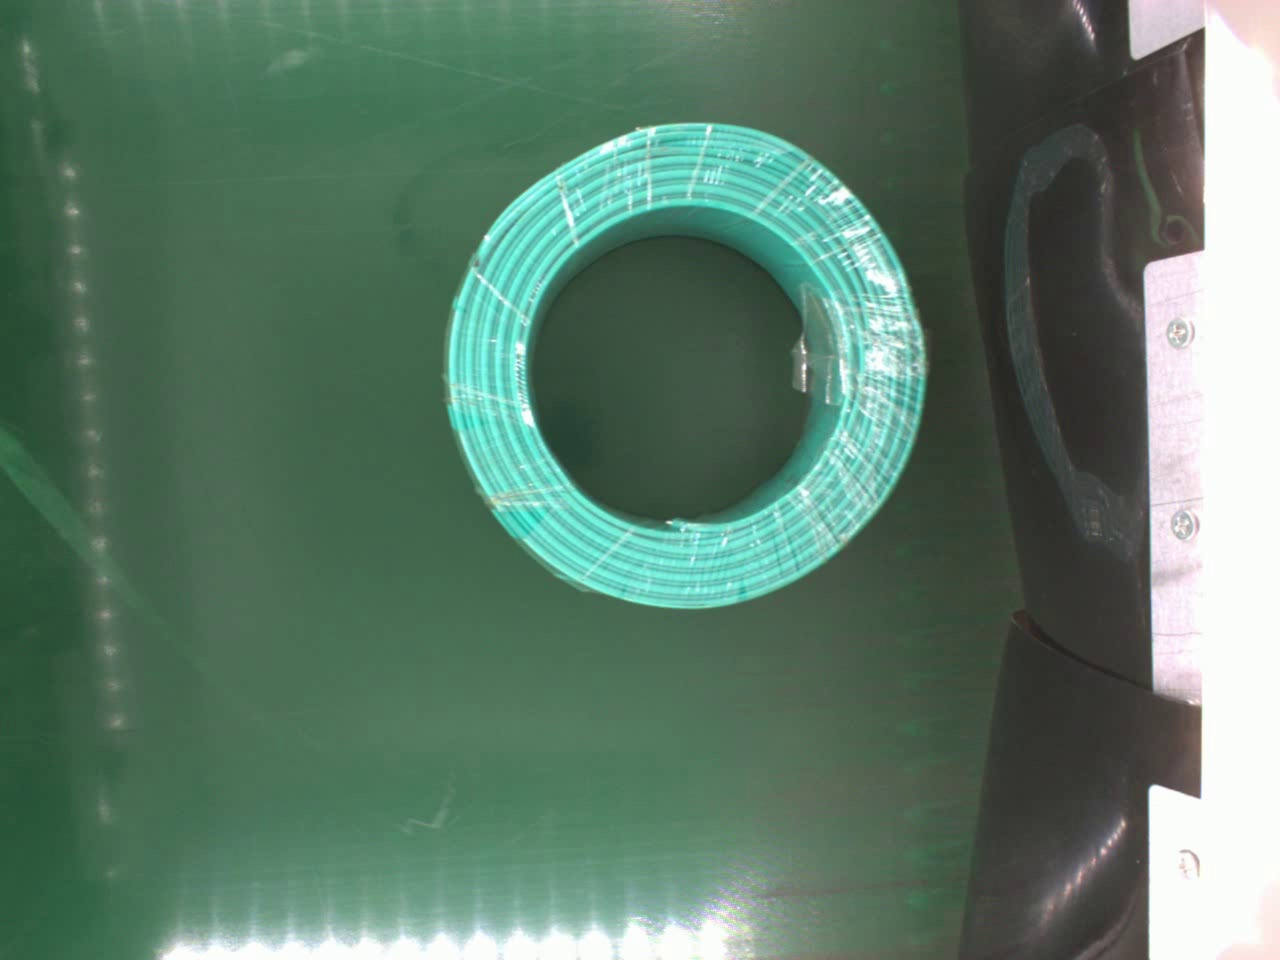green: (440, 118, 941, 615)
